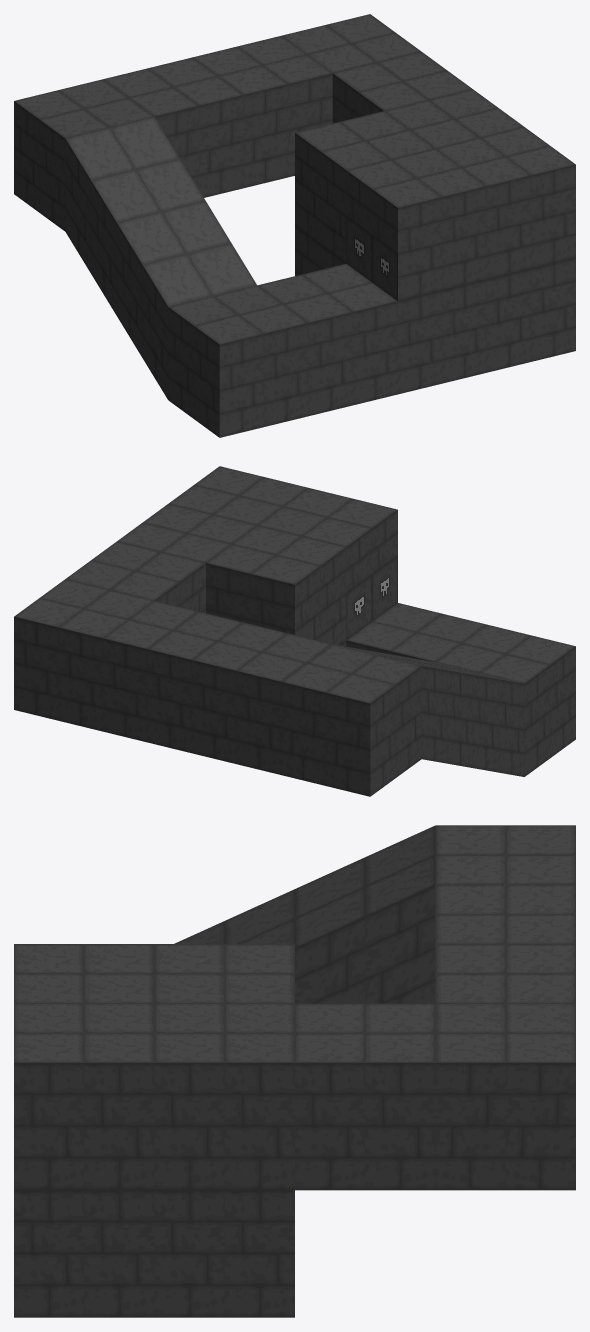
File: dungeon.obj
3 renders of one model, top to bottom at view 1: azimuth 30°, elevation 25°; view 2: azimuth 150°, elevation 25°; view 3: azimuth 270°, elevation 25°, orthographic. The views are drawn at different scales.
Parts seen in each view (by area): view 1: Cube; view 2: Cube; view 3: Cube.
Boxes of the visible parts, x1,y1,x2,y2 form: Cube: (14,14,575,437); Cube: (14,466,575,796); Cube: (14,825,575,1317).
Bounding box in the file's own units: 512 × 256 × 512.
Materials: 3 (3 with a texture image).
